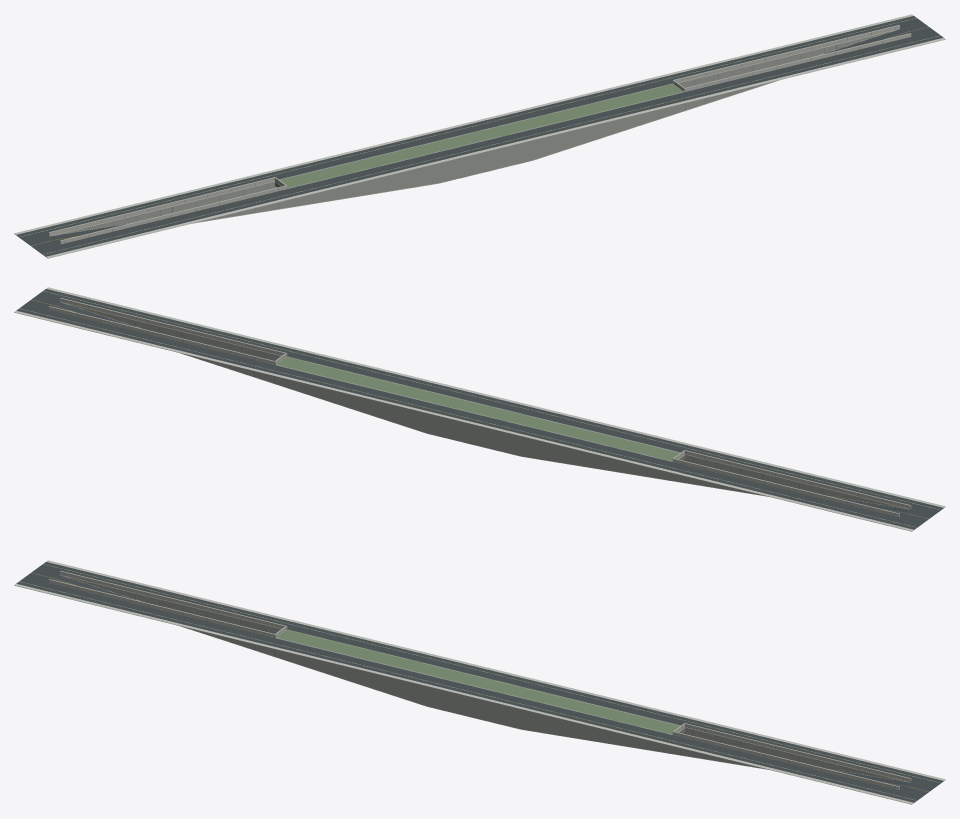
Rendered from center-underpass-sample-01.glb.
The picture shows the model from 3 angles, top to bottom: view 1: azimuth 30°, elevation 25°; view 2: azimuth 150°, elevation 25°; view 3: azimuth 330°, elevation 25°; orthographic projection.
Visible parts, largest first — view 1: GroundOuterAsphalt, GroundOuterAsphalt.001, CoverGround, OriginalSidewalk, OriginalSidewalk.001, OriginalShoulderLine, OriginalShoulderLine.001; view 2: GroundOuterAsphalt.001, GroundOuterAsphalt, CoverGround, OriginalSidewalk.001, OriginalSidewalk, OriginalShoulderLine.001, OriginalShoulderLine; view 3: GroundOuterAsphalt, GroundOuterAsphalt.001, CoverGround, OriginalSidewalk, OriginalSidewalk.001, OriginalShoulderLine, OriginalShoulderLine.001.
Boxes of the visible parts, left/top/right/bottom form: GroundOuterAsphalt: left=37, top=31, right=943, bottom=256; GroundOuterAsphalt.001: left=16, top=16, right=922, bottom=241; CoverGround: left=280, top=83, right=682, bottom=188; OriginalSidewalk: left=46, top=37, right=945, bottom=258; OriginalSidewalk.001: left=14, top=14, right=913, bottom=234; OriginalShoulderLine: left=43, top=35, right=940, bottom=254; OriginalShoulderLine.001: left=20, top=18, right=916, bottom=236; GroundOuterAsphalt.001: left=16, top=304, right=922, bottom=529; GroundOuterAsphalt: left=37, top=289, right=943, bottom=514; CoverGround: left=277, top=356, right=679, bottom=461; OriginalSidewalk.001: left=14, top=310, right=913, bottom=531; OriginalSidewalk: left=46, top=287, right=945, bottom=507; OriginalShoulderLine.001: left=19, top=308, right=916, bottom=527; OriginalShoulderLine: left=43, top=291, right=939, bottom=509; GroundOuterAsphalt: left=16, top=577, right=922, bottom=802; GroundOuterAsphalt.001: left=37, top=562, right=943, bottom=787; CoverGround: left=277, top=630, right=679, bottom=734; OriginalSidewalk: left=14, top=583, right=913, bottom=804; OriginalSidewalk.001: left=46, top=560, right=945, bottom=780; OriginalShoulderLine: left=19, top=581, right=916, bottom=800; OriginalShoulderLine.001: left=43, top=564, right=939, bottom=782.
Size of the model in its own units: 304 by 11.3 by 20.
